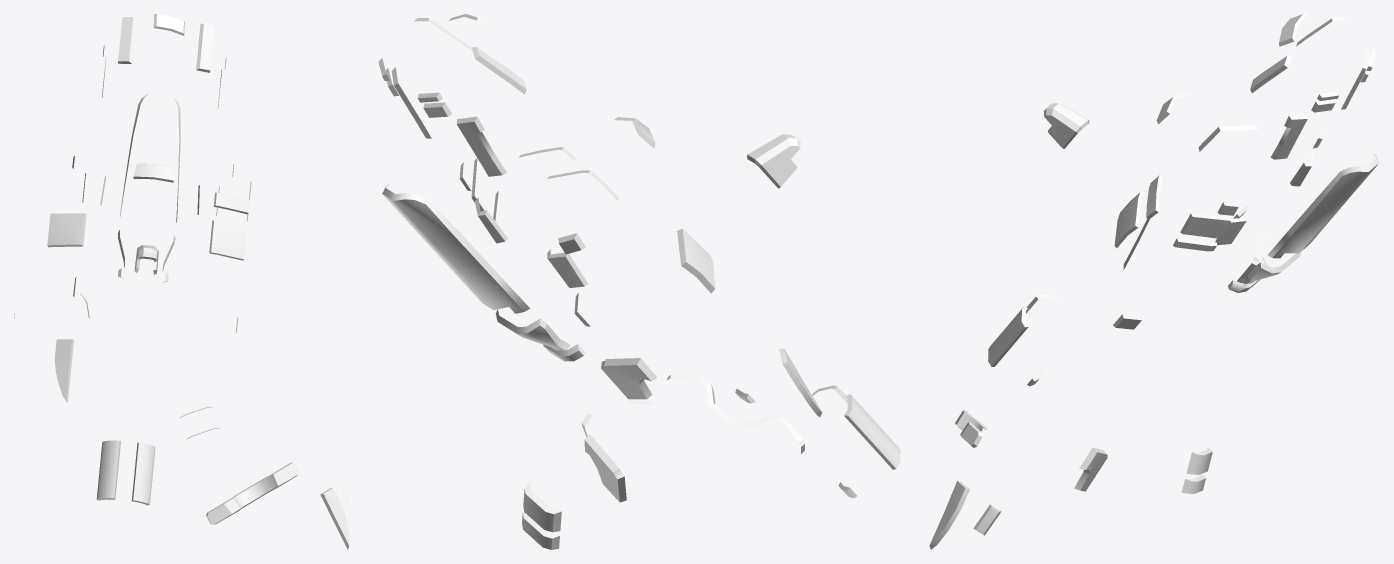
Rendered from prop_static_ama_shipwreck_02_02.glb.
The picture shows the model from 3 angles, left to right: view 1: azimuth 30°, elevation 25°; view 2: azimuth 150°, elevation 25°; view 3: azimuth 270°, elevation 25°; orthographic projection. The views are drawn at different scales.
Visible parts, largest first — view 1: ama_ship_wreck_02_02_LOD0; view 2: ama_ship_wreck_02_02_LOD0; view 3: ama_ship_wreck_02_02_LOD0.
Boxes of the visible parts, x1,y1,x2,y2 form: ama_ship_wreck_02_02_LOD0: (14, 14, 349, 549); ama_ship_wreck_02_02_LOD0: (378, 14, 900, 549); ama_ship_wreck_02_02_LOD0: (929, 14, 1379, 549).
Size of what is drawn, in the model's own units: 3.37 by 5.74 by 4.55.
Materials: 1 (1 with a texture image).
